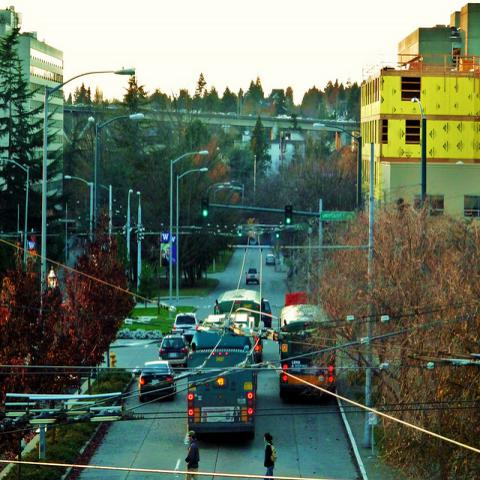bus: (188, 329, 259, 439), (279, 303, 337, 404), (214, 289, 260, 315)
car: (139, 360, 178, 406), (158, 336, 190, 368), (172, 312, 200, 333), (245, 267, 260, 285), (266, 254, 275, 265), (250, 238, 258, 245)
